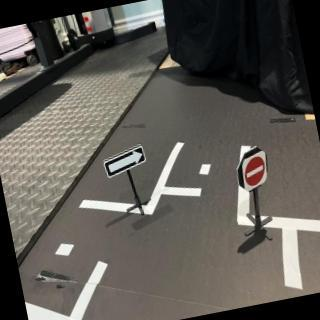sign_noentry: (237, 148, 272, 193)
sign_oneway_right: (101, 143, 151, 181)
